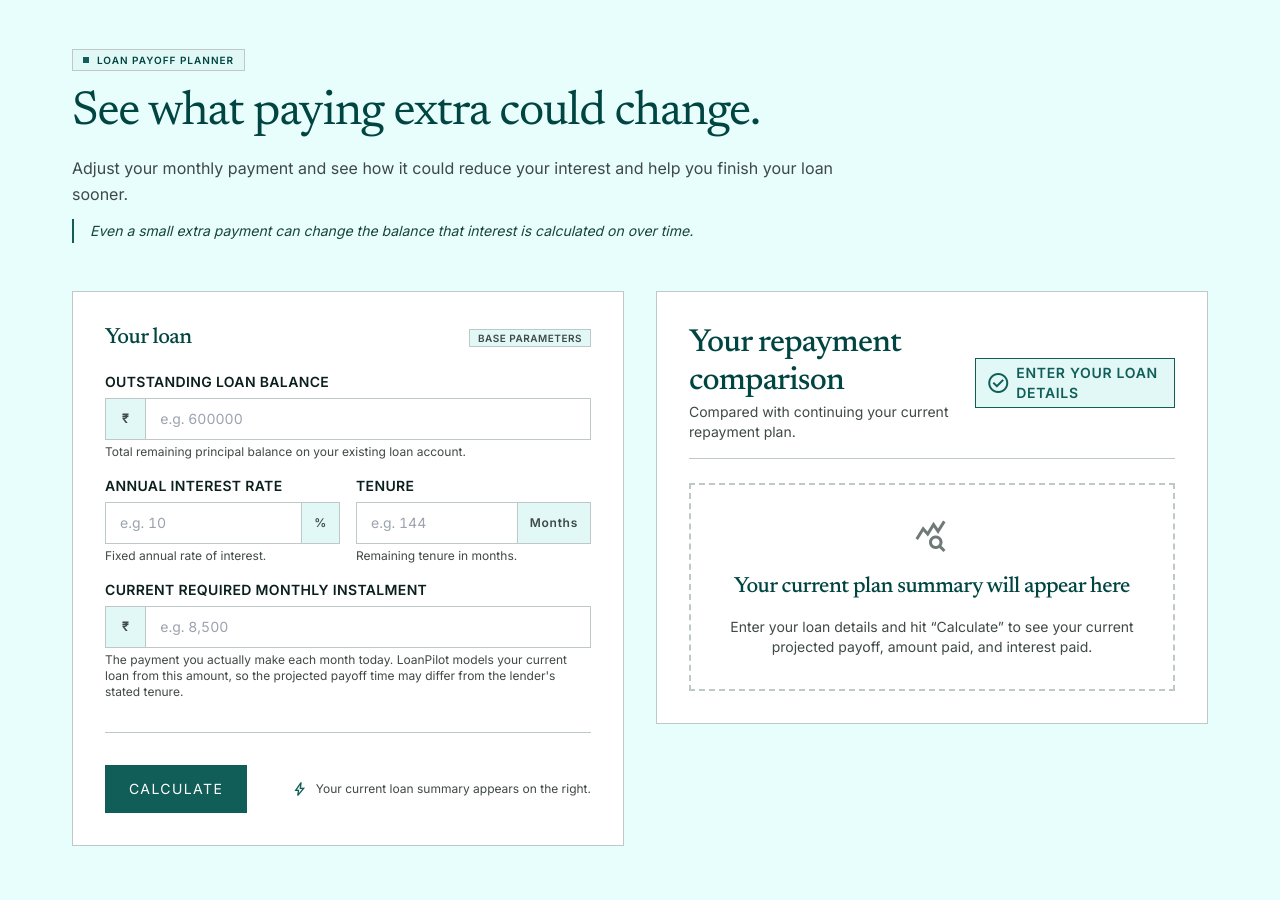
Test case: Calculator two-stage flow › requires the current monthly instalment before calculating
Click the button "Calculate".
click(176, 789)  # box [105, 765, 247, 813]
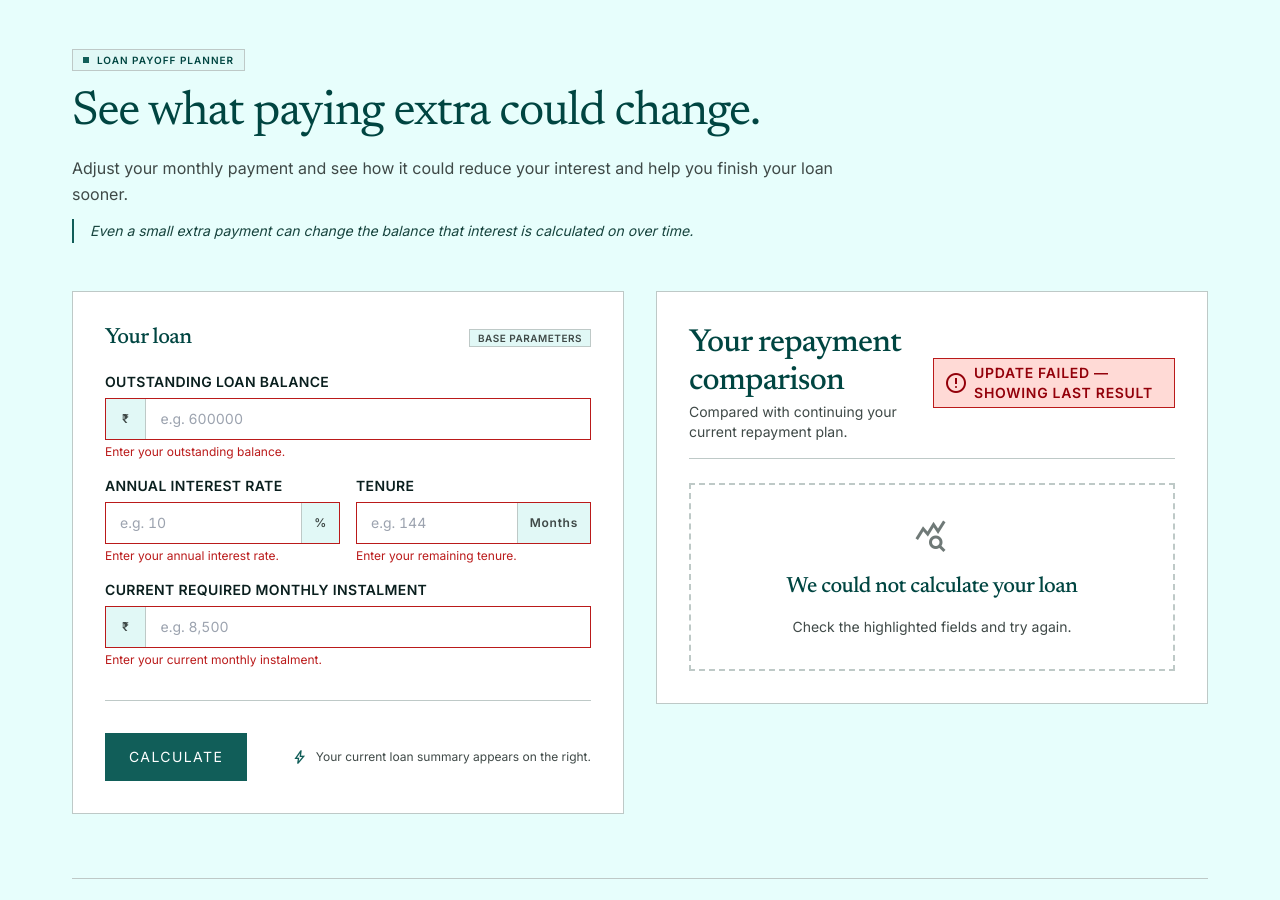
Expected: the text "Enter your current monthly instalment." is shown, [105, 652, 322, 667]
